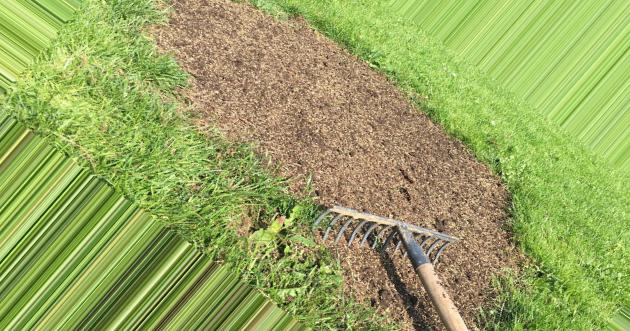patch: (191, 18, 358, 185), (383, 127, 462, 212)
